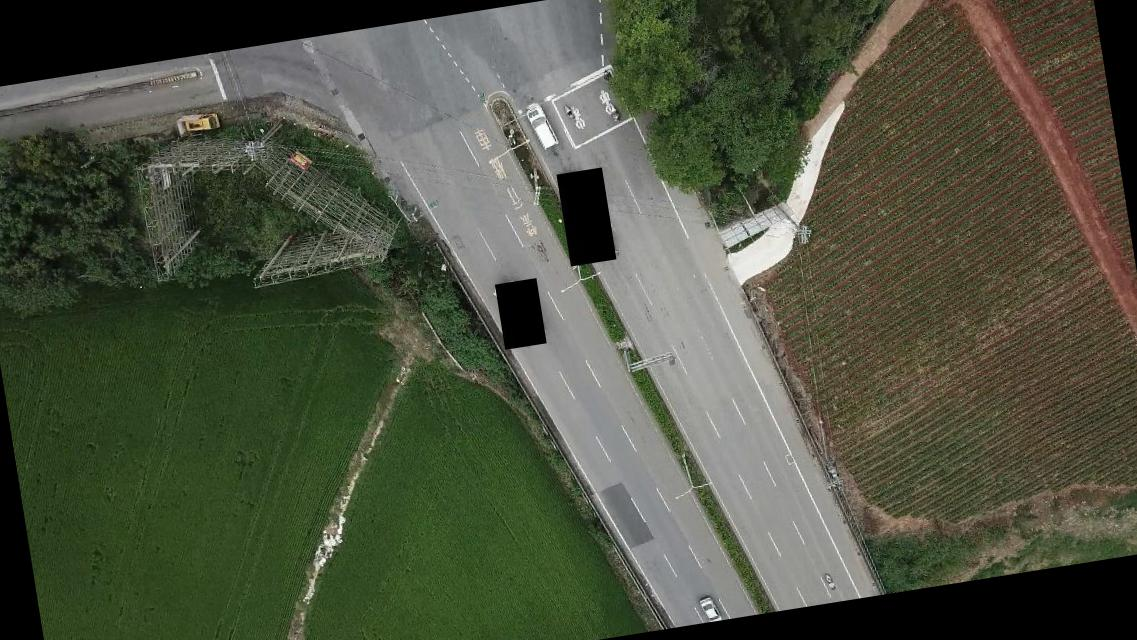vehicle: (522, 100, 562, 148), (696, 593, 722, 622)
